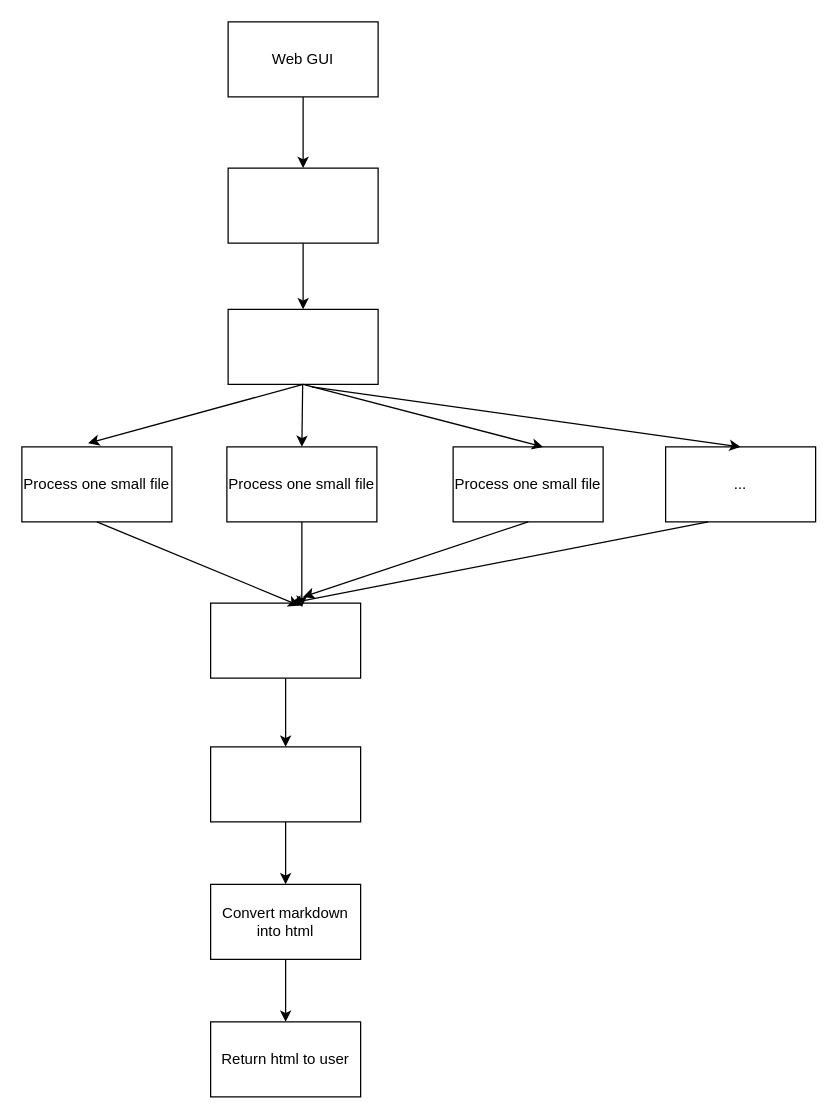
The diagram is 838 pixels wide and 1119 high, and some of its shapes have lost their labels. The box of each missing label's shape, as (x1, y1, x2, y2) in pixels:
Concatenate into result in markdown: (209, 602, 361, 678)
Remove dup from result: (209, 746, 361, 822)
Split into small files: (227, 308, 378, 384)
Upload log file: (227, 167, 378, 243)
